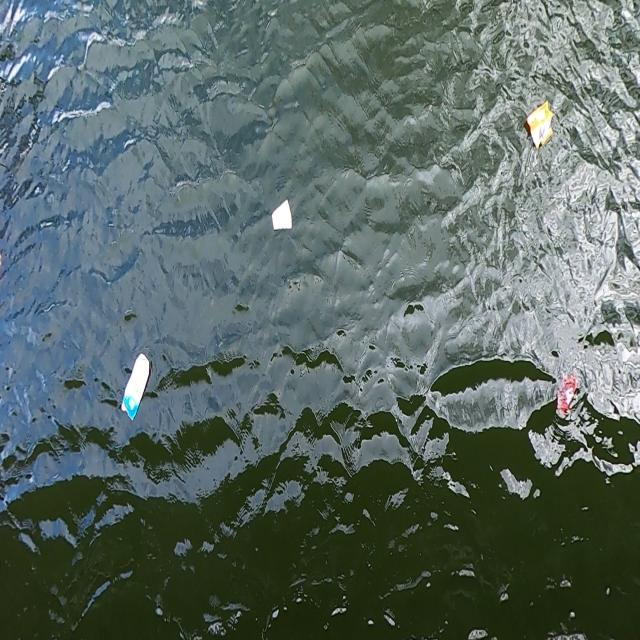Autre plastique: (523, 97, 556, 150)
Non plastique: (268, 196, 296, 235)
